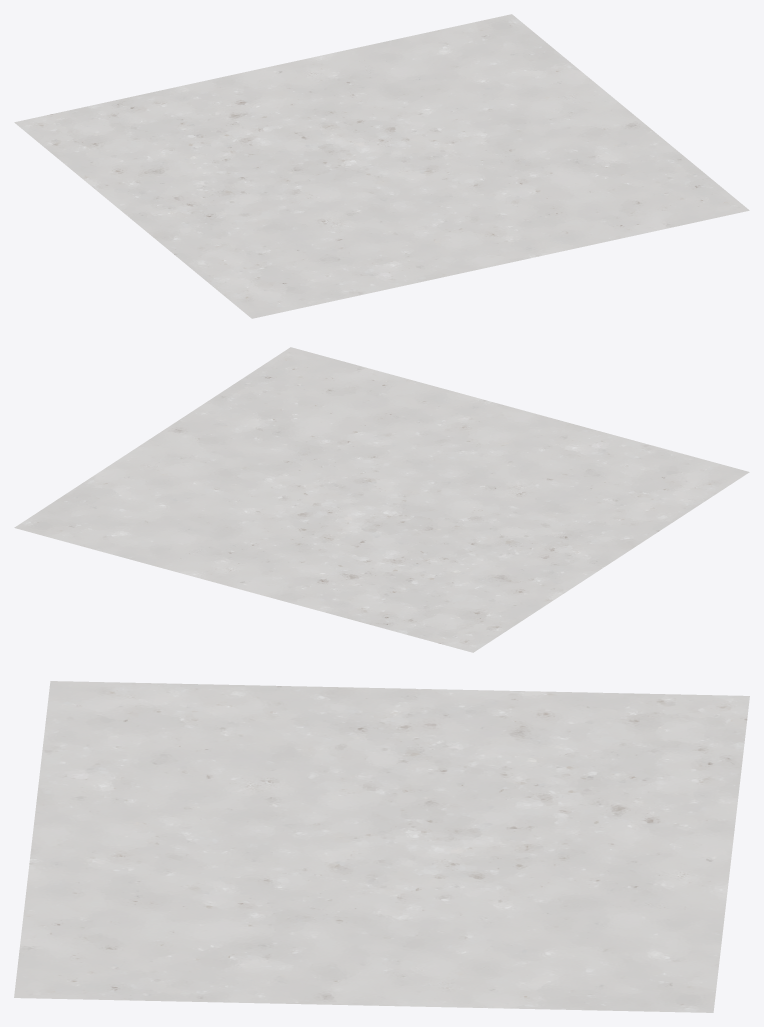
The model's file is SnowFLoor.fbx.
The picture shows the model from 3 angles, top to bottom: view 1: azimuth 30°, elevation 25°; view 2: azimuth 150°, elevation 25°; view 3: azimuth 270°, elevation 25°; orthographic projection. The views are drawn at different scales.
Parts seen in each view (by area): view 1: Cube__5_; view 2: Cube__5_; view 3: Cube__5_.
Boxes of the visible parts, x1,y1,x2,y2 form: Cube__5_: (14, 14, 749, 318); Cube__5_: (14, 347, 749, 652); Cube__5_: (14, 681, 749, 1012).
Bounding box in the file's own units: 1959 × 0.000135 × 1835.
1 material, 1 textured.
